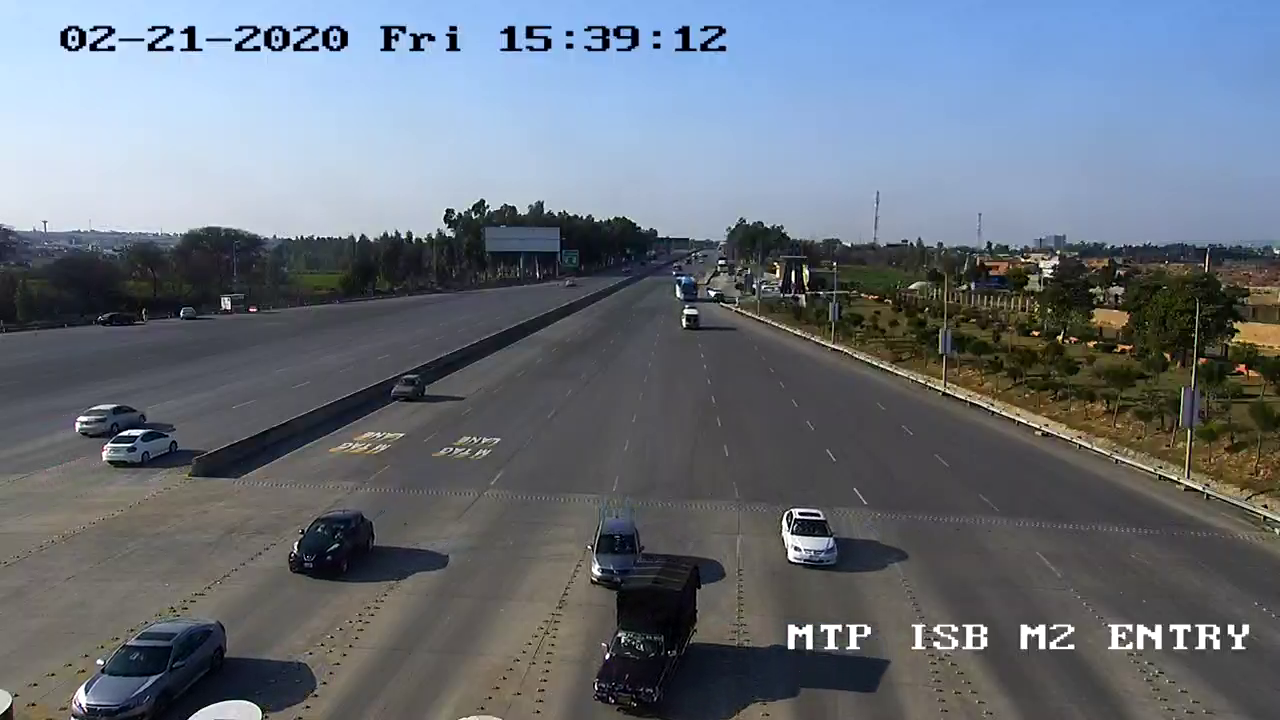f1: (60, 617, 237, 717), (283, 504, 386, 589), (771, 498, 842, 575)
